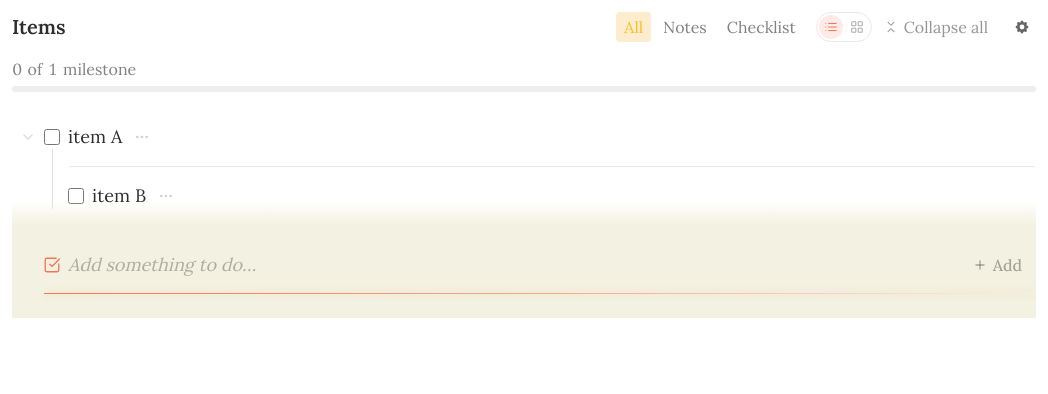
Todo add bar Tab to nest › should create a child of the target on Enter and stay nested, empty and focused
The width and height of the screenshot is (1048, 394).
Expected: the text "item A" is shown, [68,124,122,150]
Step 1. Press Tab in the field labelled "Add something to do…", box [68,249,947,281]
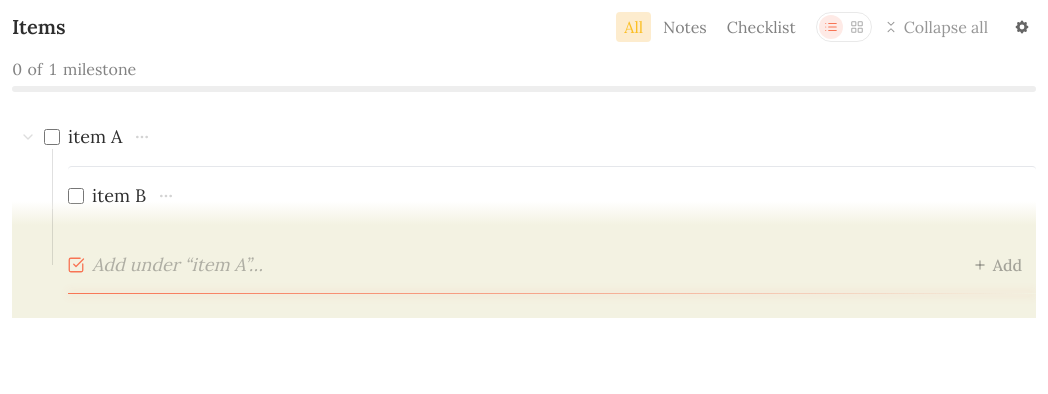
Step 2. Click the button named "Switch to adding a note" → click(76, 265), box [60,249,92,281]
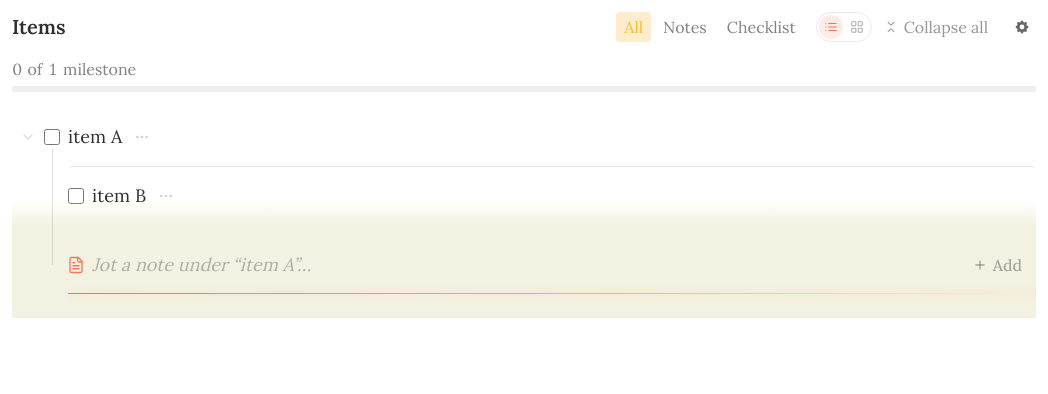
Step 3. Type "item E" into the field labelled "Jot a note under “item A”…" → (519, 265), box [92,249,947,281]
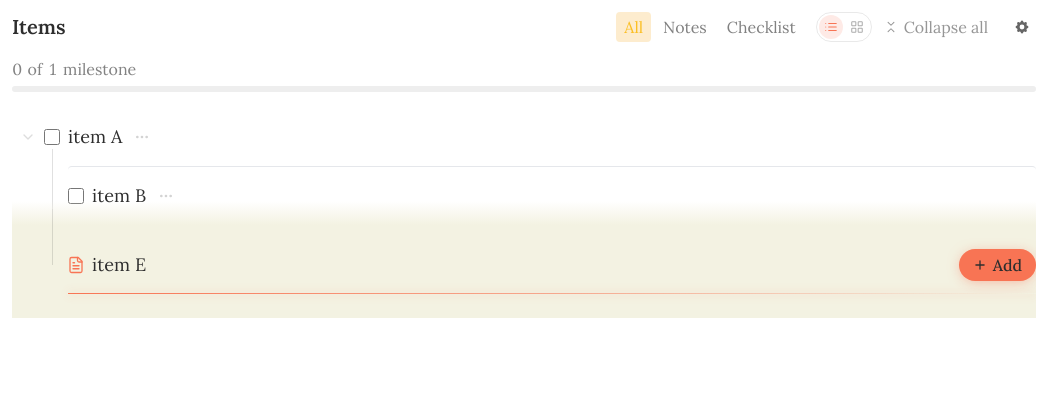
Step 4. Submit the form "Add", box [60,249,1036,281]
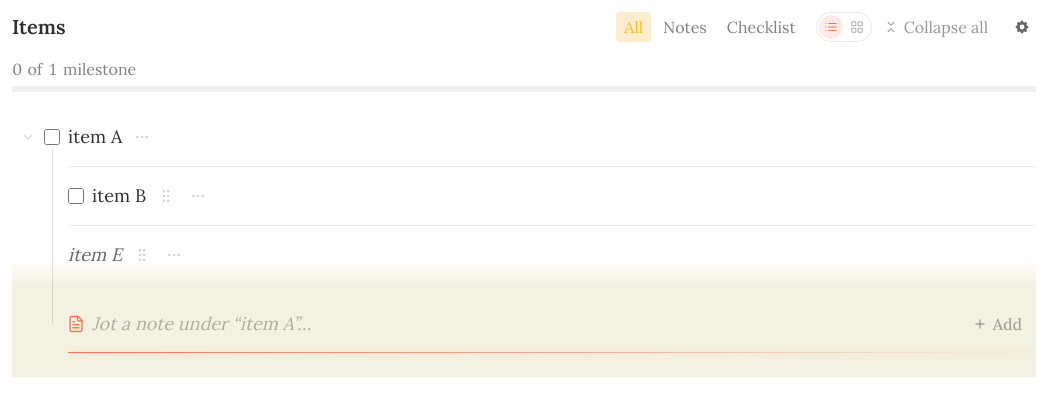
Now the text "item E" is shown, box [68,242,122,268]
Now the field labelled "Jot a note under “item A”…" is empty, box [92,308,947,340]
